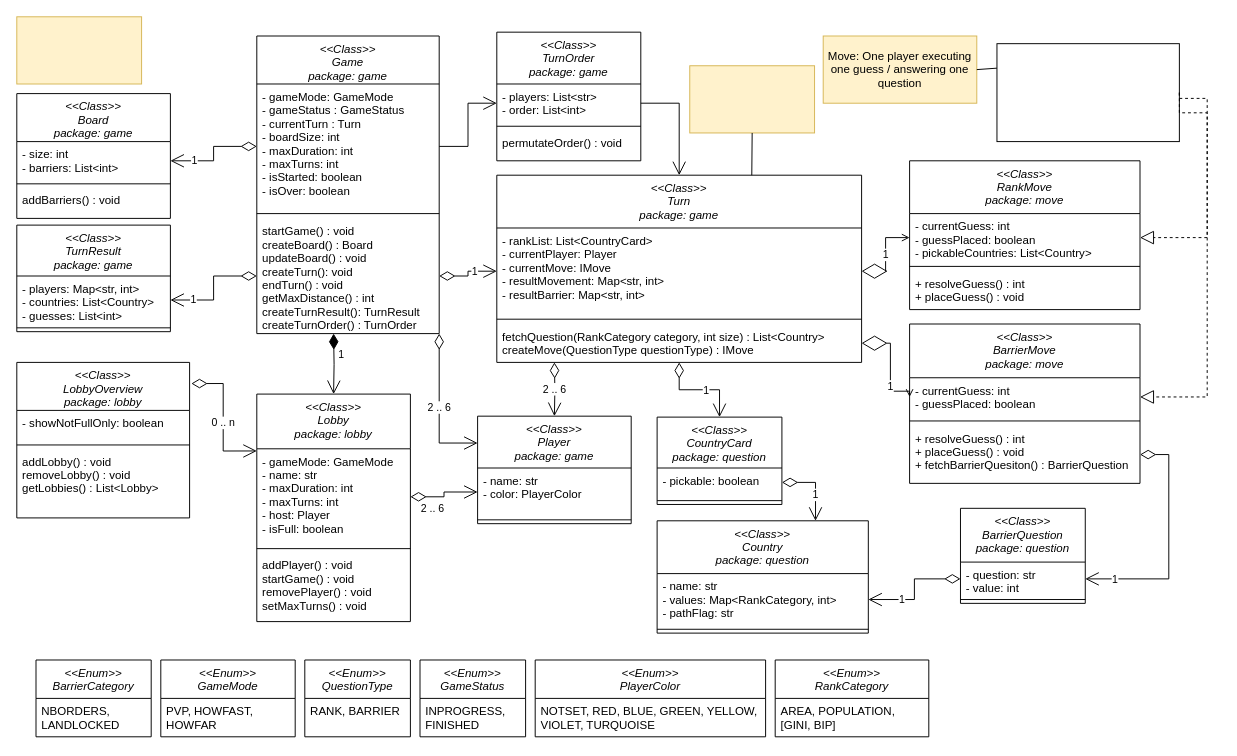
Image size: 1237x756. Some labels were removed from this diagram. Here are the shapes that lost their labels. From the top down, the box of each, then its label:
(16, 16, 142, 84): All getter and setter methods omitted for legibility
(689, 65, 815, 133): Turn: A full round where each player executes one move
(996, 43, 1179, 142): <<Interface>> IMove package: move resolveGuess() : int placeGuess() : void
